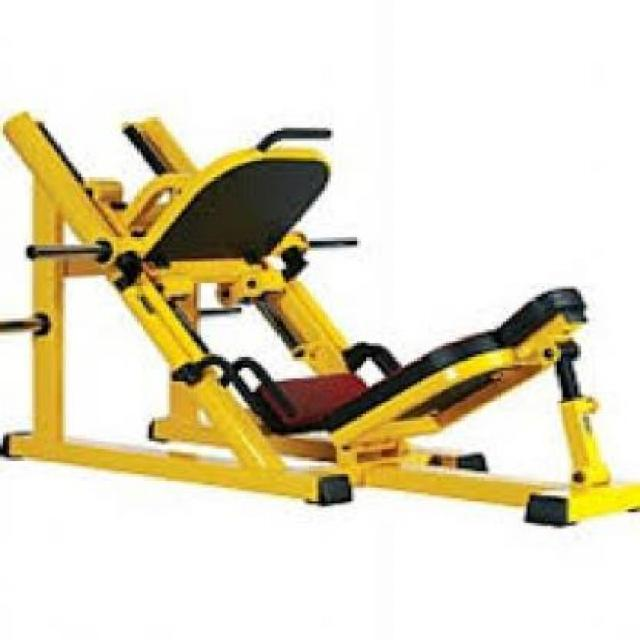leg press: (0, 82, 640, 549)
